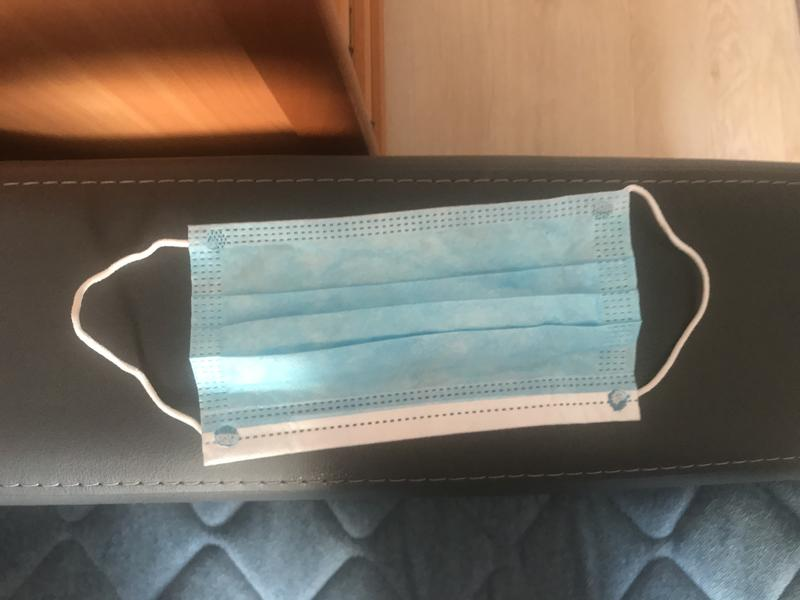medical_mask: (72, 183, 712, 468)
